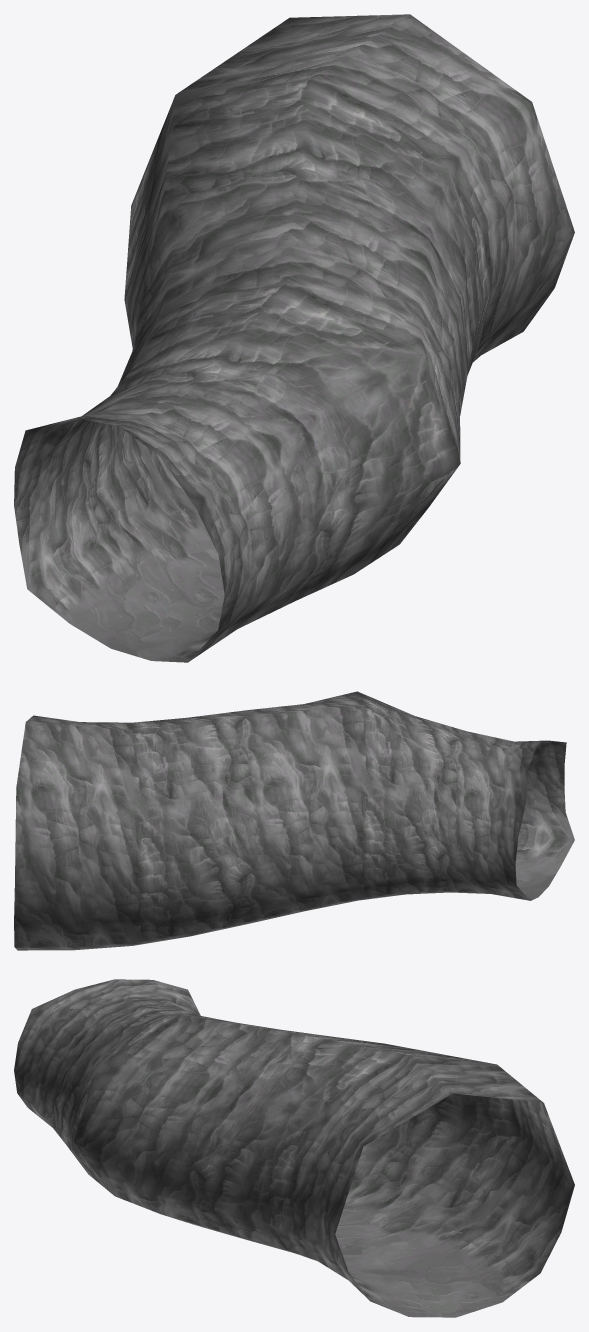
Rendered from SWORDLIGHT20_PS-AREA04_05.fbx.
The picture shows the model from 3 angles, top to bottom: view 1: azimuth 30°, elevation 25°; view 2: azimuth 150°, elevation 25°; view 3: azimuth 270°, elevation 25°; orthographic projection. The views are drawn at different scales.
Parts seen in each view (by area): view 1: SWORDLIGHT20_PS-AREA04_05; view 2: SWORDLIGHT20_PS-AREA04_05; view 3: SWORDLIGHT20_PS-AREA04_05.
Part boxes in pixels (left/top/right/bottom): SWORDLIGHT20_PS-AREA04_05: left=14, top=14, right=574, bottom=662; SWORDLIGHT20_PS-AREA04_05: left=14, top=691, right=574, bottom=950; SWORDLIGHT20_PS-AREA04_05: left=14, top=979, right=574, bottom=1317.
Bounding box in the file's own units: 164371 × 78952 × 179847.
2 materials, 2 textured.
